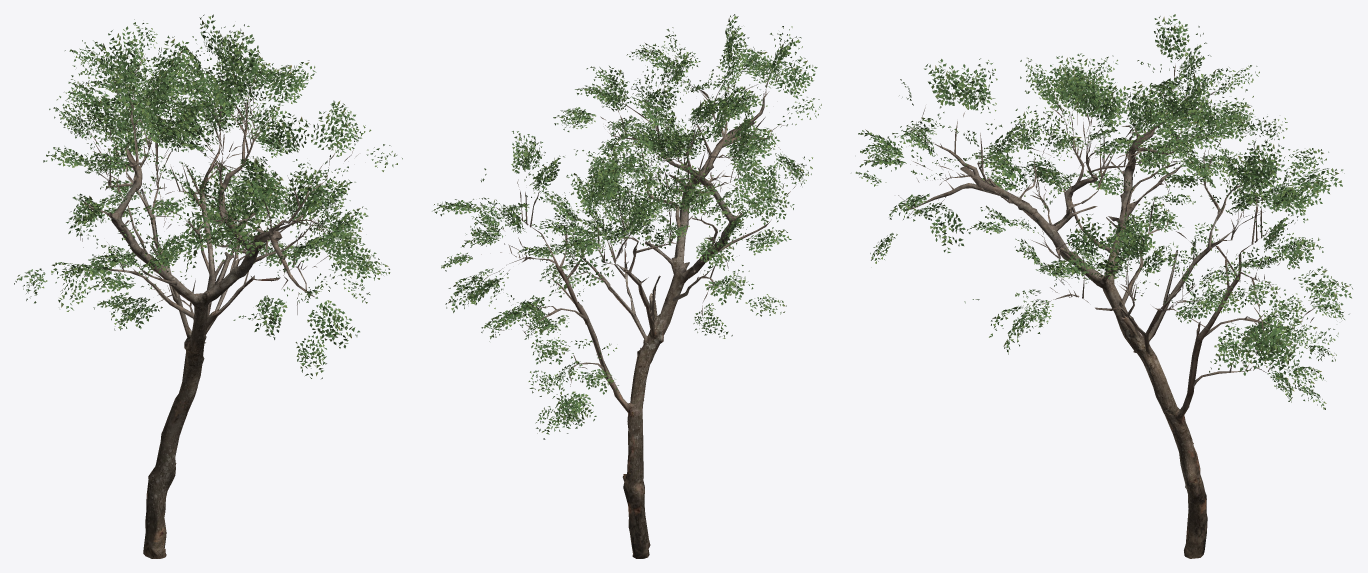
The model's file is tree_background.glb.
3 views of the same model, side by side, from view 1: azimuth 30°, elevation 25°; view 2: azimuth 150°, elevation 25°; view 3: azimuth 270°, elevation 25° (orthographic). The views are drawn at different scales.
Visible parts, largest first — view 1: tree_small_02_LOD0.002, tree_small_02_LOD0, tree_small_02_LOD0.001; view 2: tree_small_02_LOD0.002, tree_small_02_LOD0, tree_small_02_LOD0.001; view 3: tree_small_02_LOD0.002, tree_small_02_LOD0, tree_small_02_LOD0.001.
Part boxes in pixels (x1,y1,x2,y2): tree_small_02_LOD0.002: (14,14,402,378); tree_small_02_LOD0: (83,149,303,558); tree_small_02_LOD0.001: (80,54,358,320); tree_small_02_LOD0.002: (432,14,821,439); tree_small_02_LOD0: (543,122,754,558); tree_small_02_LOD0.001: (481,53,795,386); tree_small_02_LOD0.002: (855,14,1352,409); tree_small_02_LOD0: (960,125,1241,558); tree_small_02_LOD0.001: (898,52,1337,387).
Bounding box in the file's own units: 2.89 × 4.56 × 4.14.
3 materials, 3 textured.
